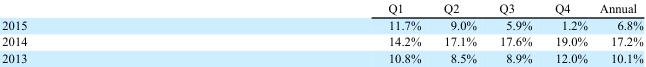table: (1, 1, 642, 64)
table column: (207, 1, 431, 64), (1, 1, 207, 64), (431, 1, 487, 64), (487, 1, 542, 64), (542, 1, 592, 64), (592, 1, 642, 64)
table column header: (1, 1, 642, 16)
table row: (1, 32, 642, 49), (1, 16, 642, 32), (1, 1, 642, 16), (1, 49, 642, 64)
